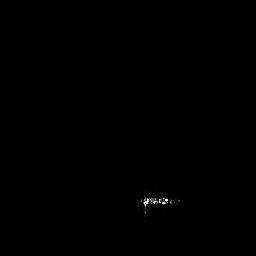ship: (136, 191, 181, 217)
